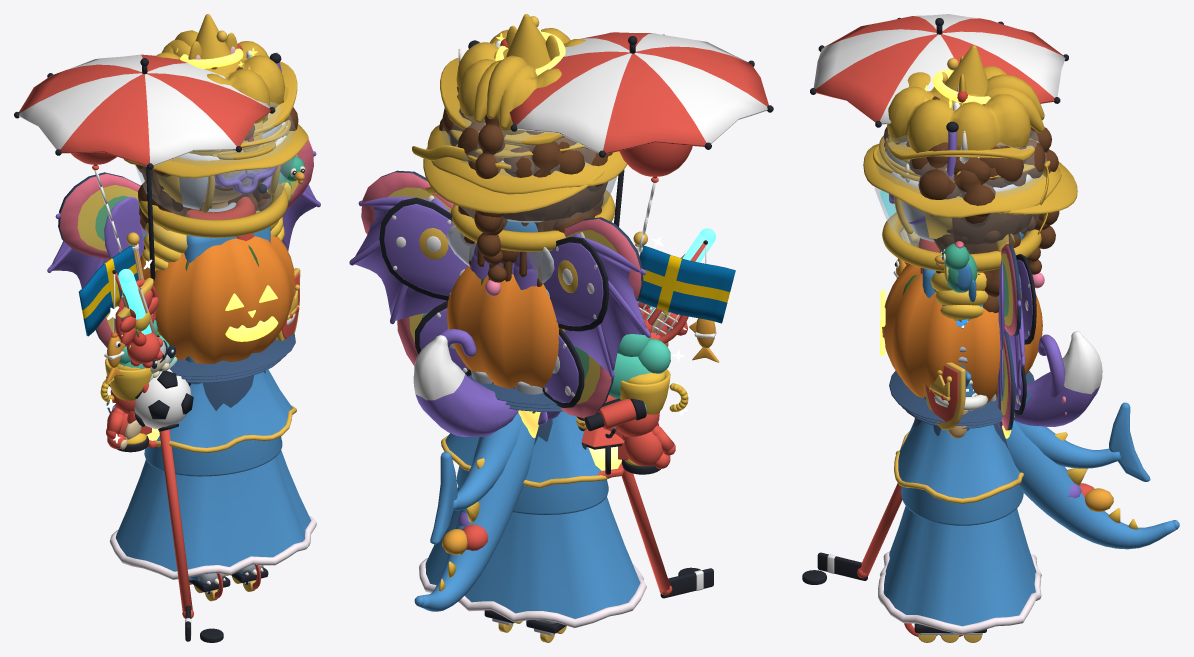
Rendered from avatar-real.glb.
3 views of the same model, side by side, from view 1: azimuth 30°, elevation 25°; view 2: azimuth 150°, elevation 25°; view 3: azimuth 270°, elevation 25° (orthographic). The views are drawn at different scales.
Parts seen in each view (by area): view 1: suit_prinsessa, hand_paraply, suit_pumpa, hat_hjalm, back_regnbagsfjarilsvingar, top_klanning, hat_kockmossa, hand_flagga, hat_solhatt, hand_fotboll, hand_hockeyklubba, bottom_tutu (+24 smaller); view 2: hand_paraply, suit_prinsessa, back_fjarilsvingar, suit_pumpa, back_drakvingar, hat_hjalm, back_regnbagsfjarilsvingar, suit_dino, back_ravsvans, hand_flagga, suit_haj, hat_solhatt (+28 smaller); view 3: suit_prinsessa, hand_paraply, hat_hjalm, suit_pumpa, hat_kockmossa, suit_dino, back_ravsvans, hat_solhatt, hair_afro, suit_haj, top_klanning, back_regnbagsfjarilsvingar (+22 smaller).
Part boxes in pixels (bbox=[...]): suit_prinsessa: bbox=[109, 234, 316, 579]; hand_paraply: bbox=[14, 54, 275, 281]; suit_pumpa: bbox=[140, 234, 294, 364]; hat_hjalm: bbox=[135, 44, 295, 237]; back_regnbagsfjarilsvingar: bbox=[58, 140, 313, 347]; top_klanning: bbox=[144, 436, 282, 476]; hat_kockmossa: bbox=[156, 39, 285, 123]; hand_flagga: bbox=[78, 232, 143, 336]; hat_solhatt: bbox=[124, 122, 308, 178]; hand_fotboll: bbox=[133, 369, 193, 431]; hand_hockeyklubba: bbox=[159, 429, 223, 642]; bottom_tutu: bbox=[170, 333, 295, 382]; hand_paraply: bbox=[509, 32, 773, 226]; suit_prinsessa: bbox=[419, 411, 646, 627]; back_fjarilsvingar: bbox=[379, 197, 609, 407]; suit_pumpa: bbox=[446, 266, 564, 388]; back_drakvingar: bbox=[349, 195, 650, 377]; hat_hjalm: bbox=[442, 38, 617, 251]; back_regnbagsfjarilsvingar: bbox=[361, 170, 643, 417]; suit_dino: bbox=[414, 421, 535, 611]; back_ravsvans: bbox=[413, 335, 518, 436]; hand_flagga: bbox=[633, 231, 735, 323]; suit_haj: bbox=[430, 412, 522, 544]; hat_solhatt: bbox=[427, 125, 627, 194]; suit_prinsessa: bbox=[878, 304, 1041, 634]; hand_paraply: bbox=[810, 14, 1068, 127]; hat_hjalm: bbox=[874, 91, 1046, 271]; suit_pumpa: bbox=[880, 263, 1042, 402]; hat_kockmossa: bbox=[887, 66, 1030, 152]; suit_dino: bbox=[941, 420, 1179, 633]; back_ravsvans: bbox=[1014, 331, 1102, 426]; hat_solhatt: bbox=[863, 143, 1061, 217]; hair_afro: bbox=[883, 96, 1050, 216]; suit_haj: bbox=[965, 370, 1150, 481]; top_klanning: bbox=[901, 484, 1023, 525]; back_regnbagsfjarilsvingar: bbox=[998, 244, 1021, 430].
Size of the model in its own units: 1.65 by 2.74 by 1.6.
